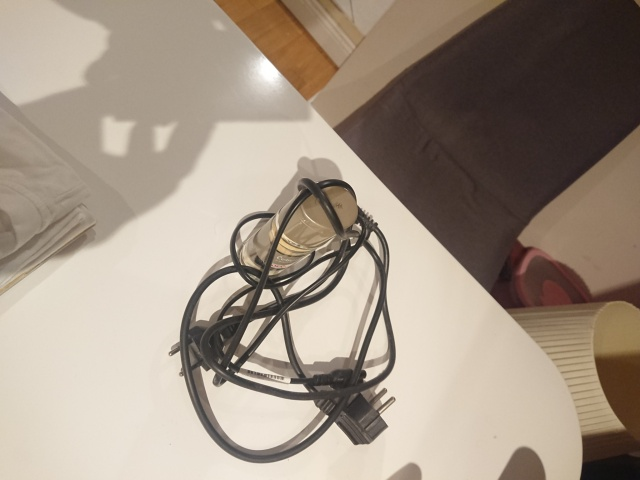Kotanyi Garlic Granules 70g: (236, 183, 360, 286)
